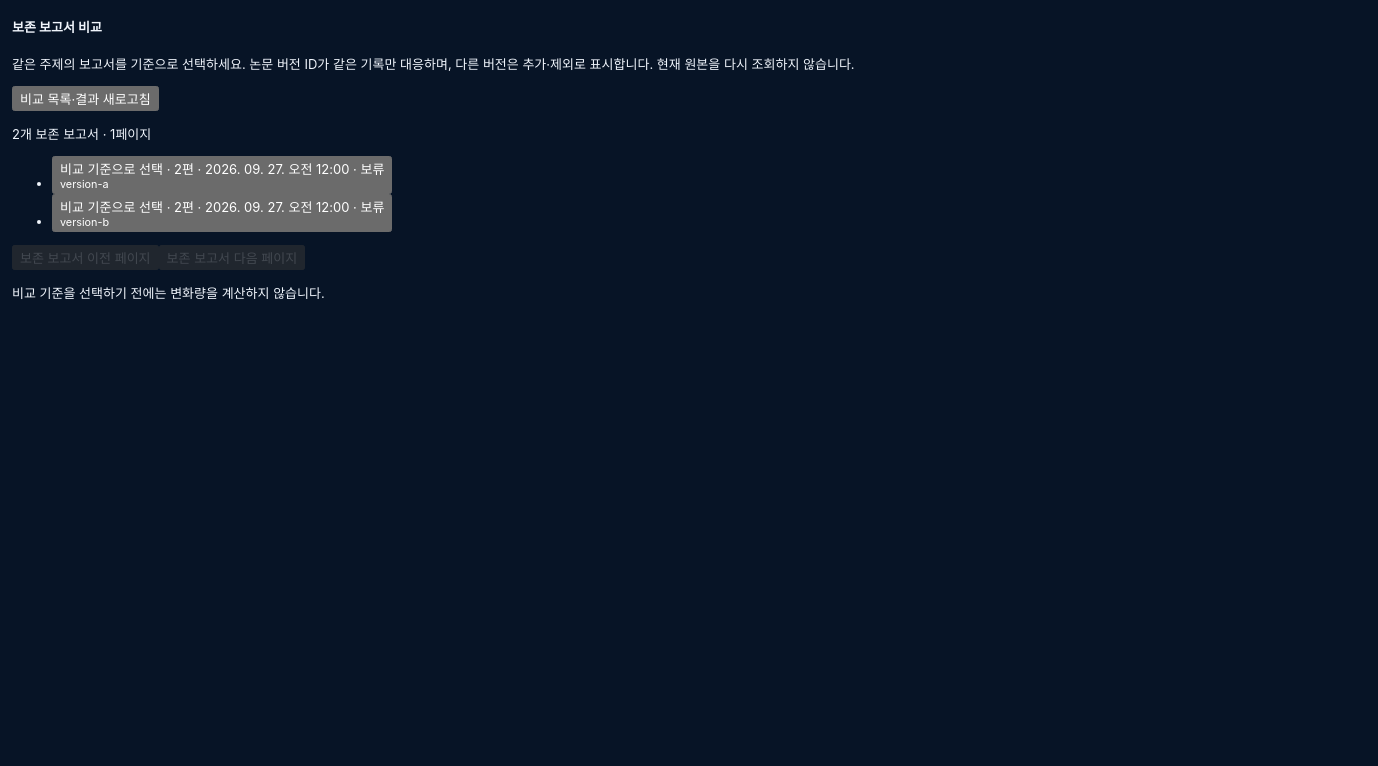
Scenario: discards a late comparison when the baseline changes and clears stale results on failed refresh
The image size is (1378, 766).
Expected: the text "2개 보존 보고서 · 1페이지" is shown, [12,126,151,142]
Step 1. Click the button "비교 기준으로 선택" → point(222, 175), box [52,156,392,194]
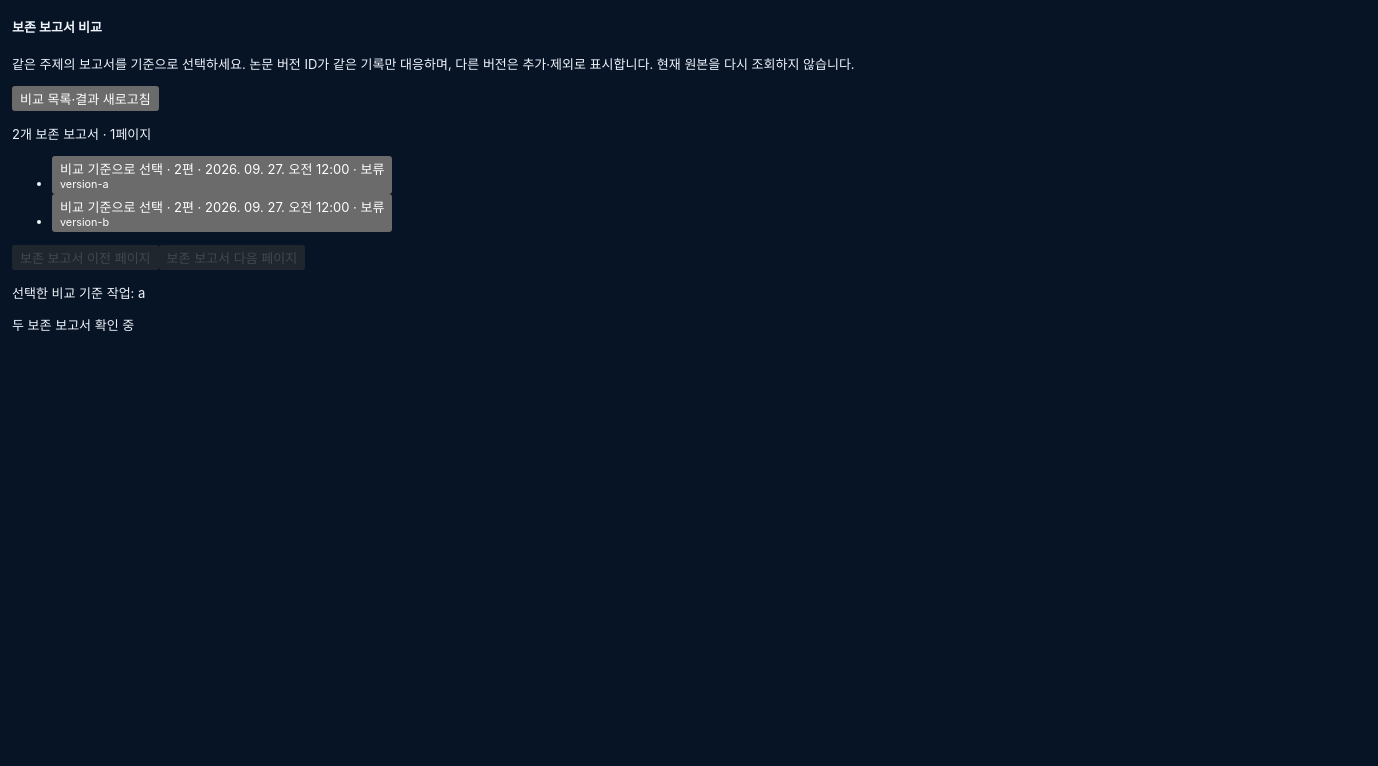
Step 2. Click the button "비교 기준으로 선택" → point(222, 213), box [52,194,392,232]
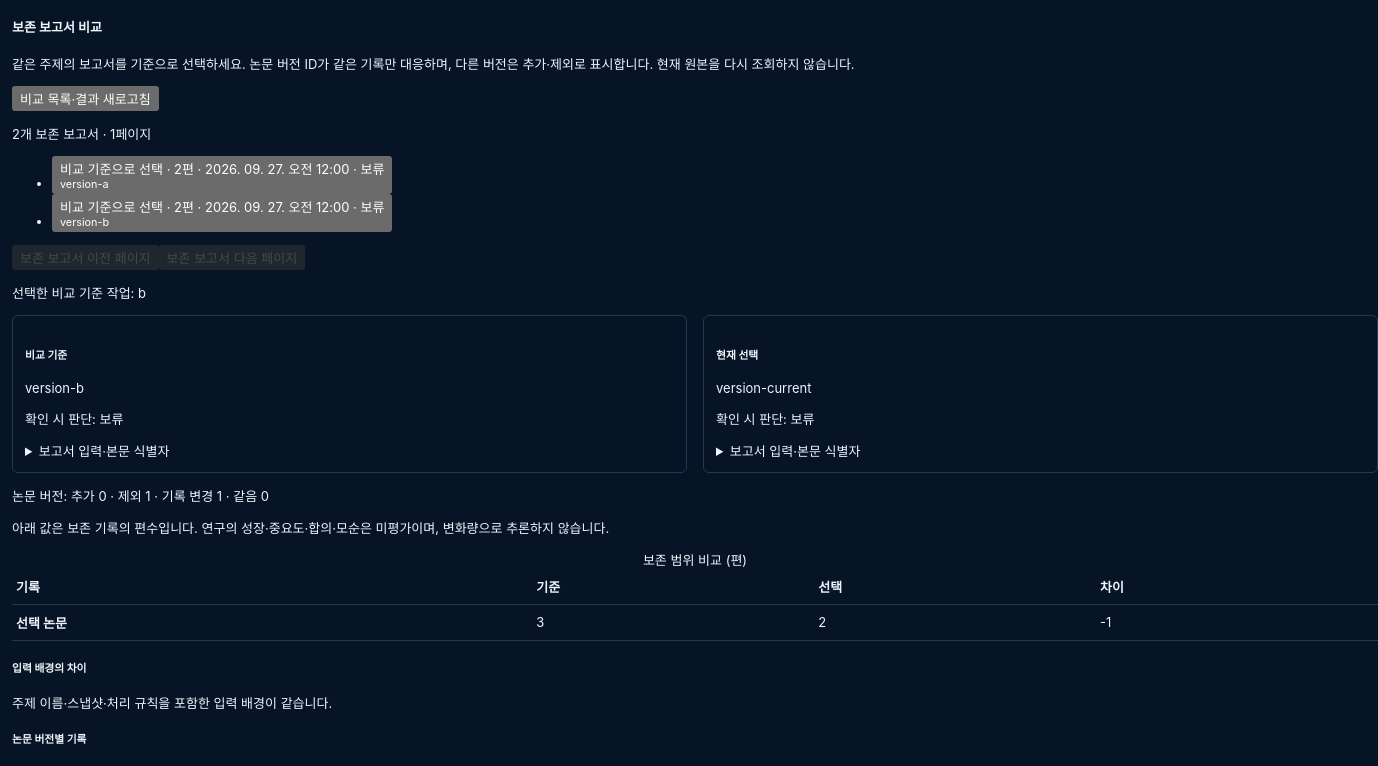
Now the table is shown, box [12,550,1377,641]
Now the text "선택한 비교 기준 작업: b" is shown, box [12,285,146,301]
Step 3. Click the button "비교 목록·결과 새로고침" → point(85, 98), box [12,86,159,111]
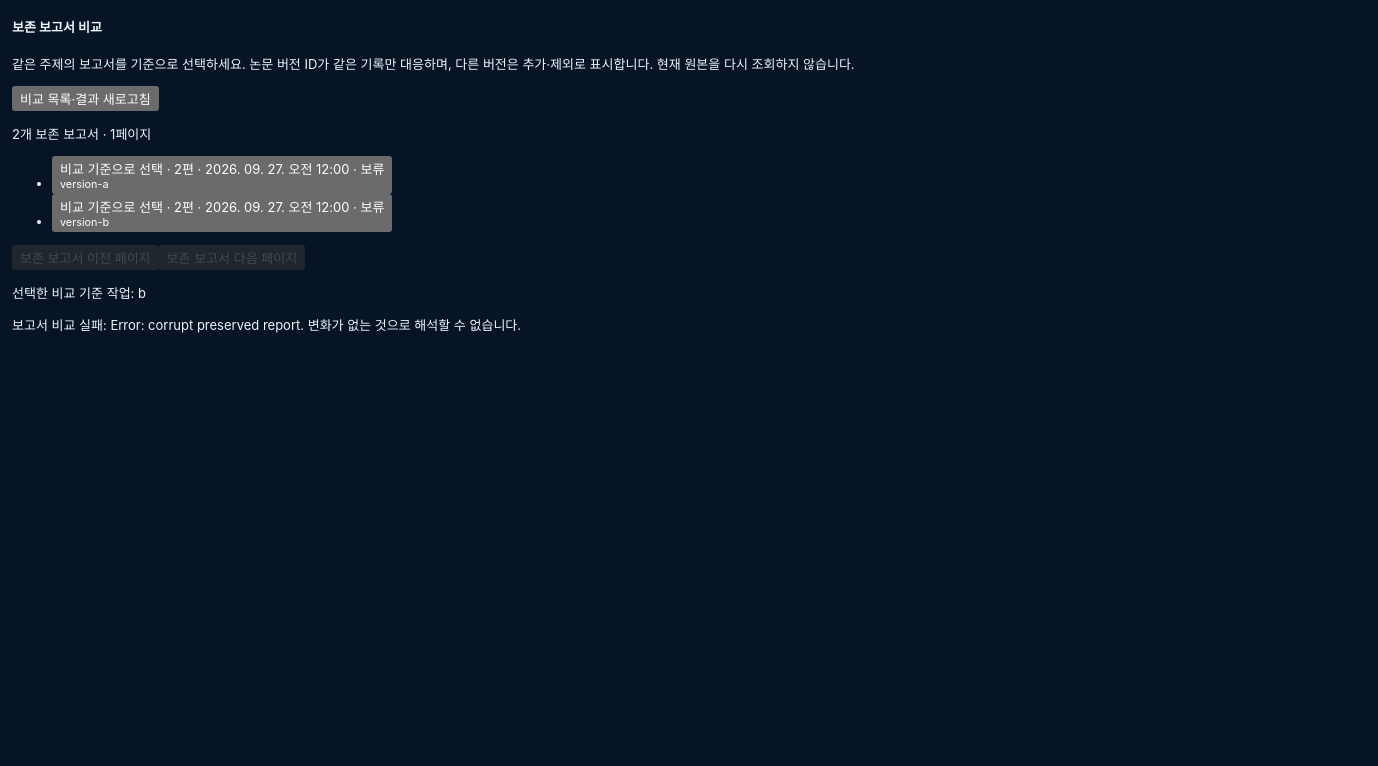
Now the table is gone
Now the text "보고서 비교 실패: Error: corrupt preserved report. 변화가 없는 것으로 해석할 수 없습니다." is shown, box [12,317,521,333]
